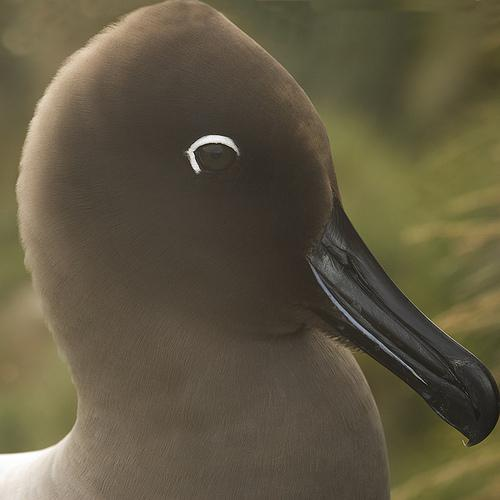003.Sooty_Albatross: (11, 1, 500, 497)
